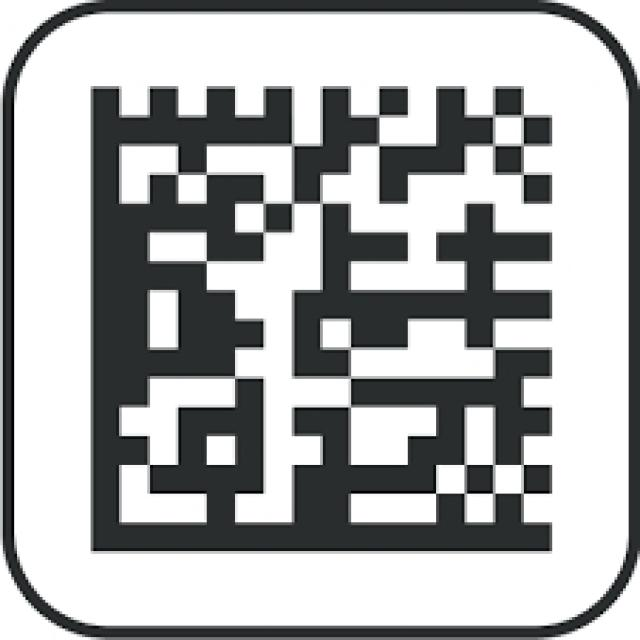datamatrix: (65, 58, 569, 568)
